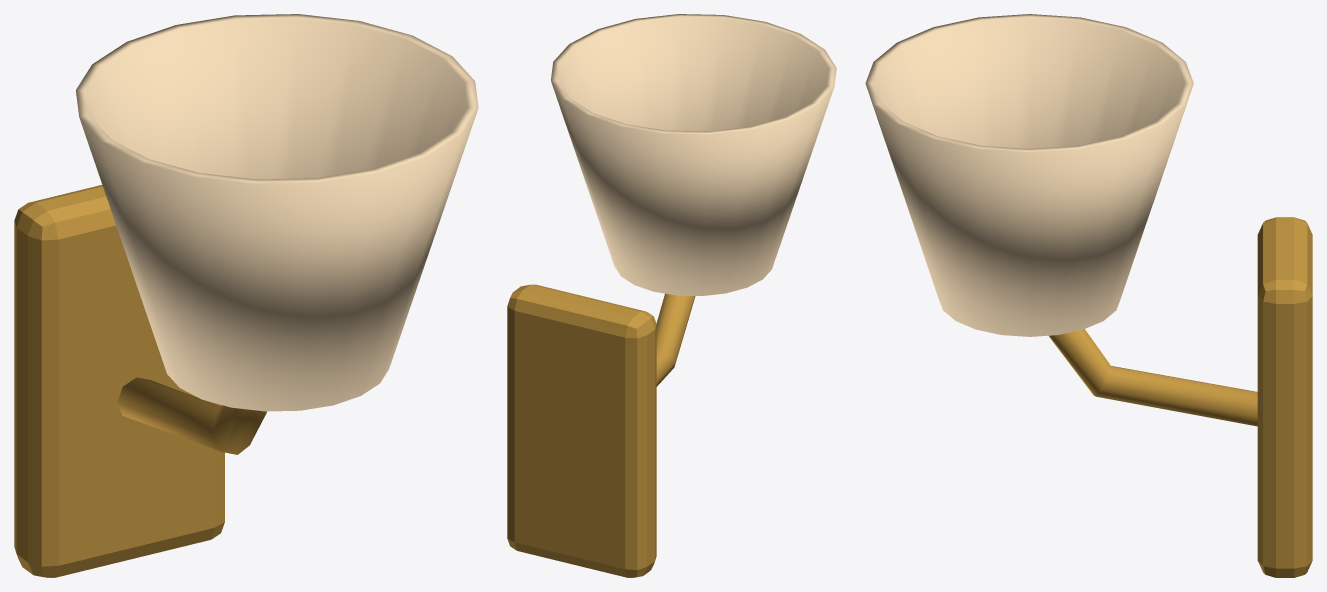
Rendered from sconce.glb.
3 renders of one model, left to right at view 1: azimuth 30°, elevation 25°; view 2: azimuth 150°, elevation 25°; view 3: azimuth 270°, elevation 25°, orthographic. The views are drawn at different scales.
Parts seen in each view (by area): view 1: sconce; view 2: sconce; view 3: sconce.
Boxes of the visible parts, x1,y1,x2,y2 form: sconce: (14,14,478,577); sconce: (507,14,836,577); sconce: (865,14,1312,577).
Size of the model in its own units: 0.18 by 0.28 by 0.245.
